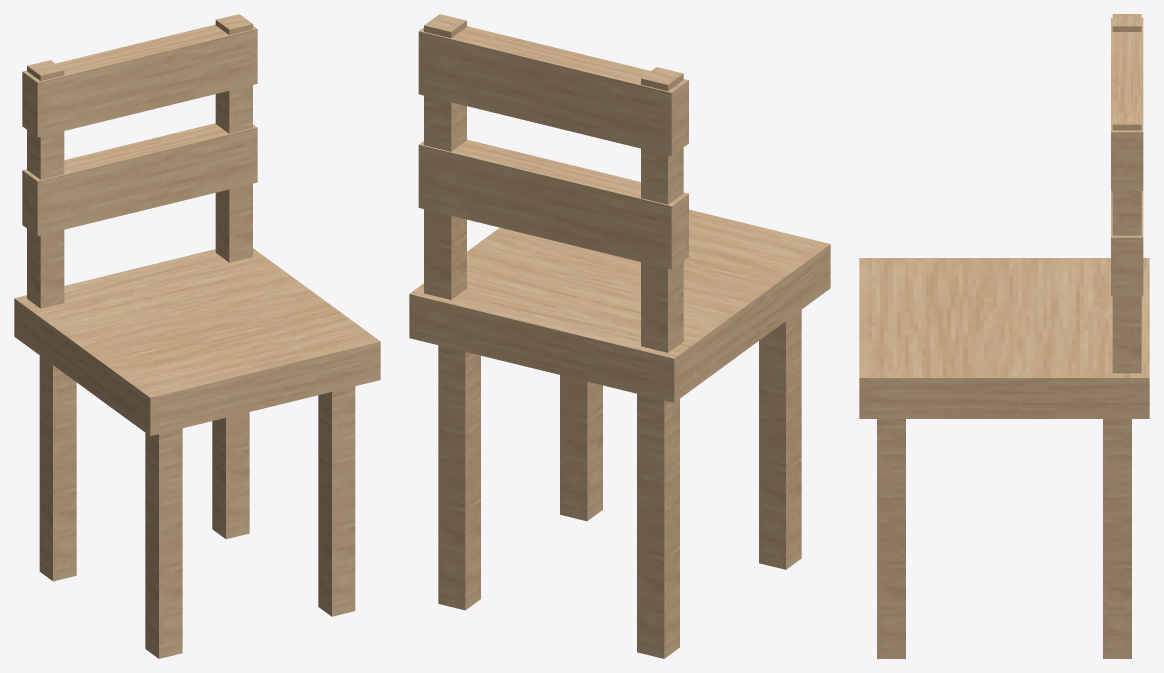
File: city_chair.glb
3 renders of one model, left to right at view 1: azimuth 30°, elevation 25°; view 2: azimuth 150°, elevation 25°; view 3: azimuth 270°, elevation 25°, orthographic. The views are drawn at different scales.
Parts seen in each view (by area): view 1: root; view 2: root; view 3: root.
Part boxes in pixels (left/top/right/bottom): root: left=14, top=14, right=380, bottom=658; root: left=409, top=14, right=830, bottom=658; root: left=859, top=14, right=1149, bottom=658.
Size of the model in its own units: 0.44 by 0.92 by 0.45.
Materials: 1 (1 with a texture image).
